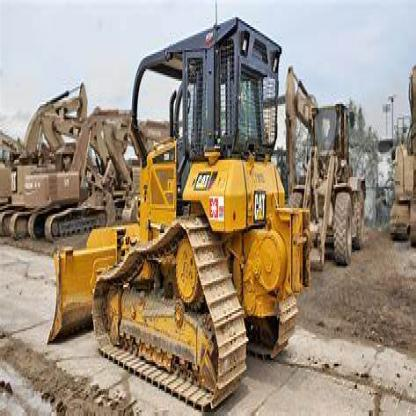bull_dozer/loader/grader: (43, 15, 311, 406)
